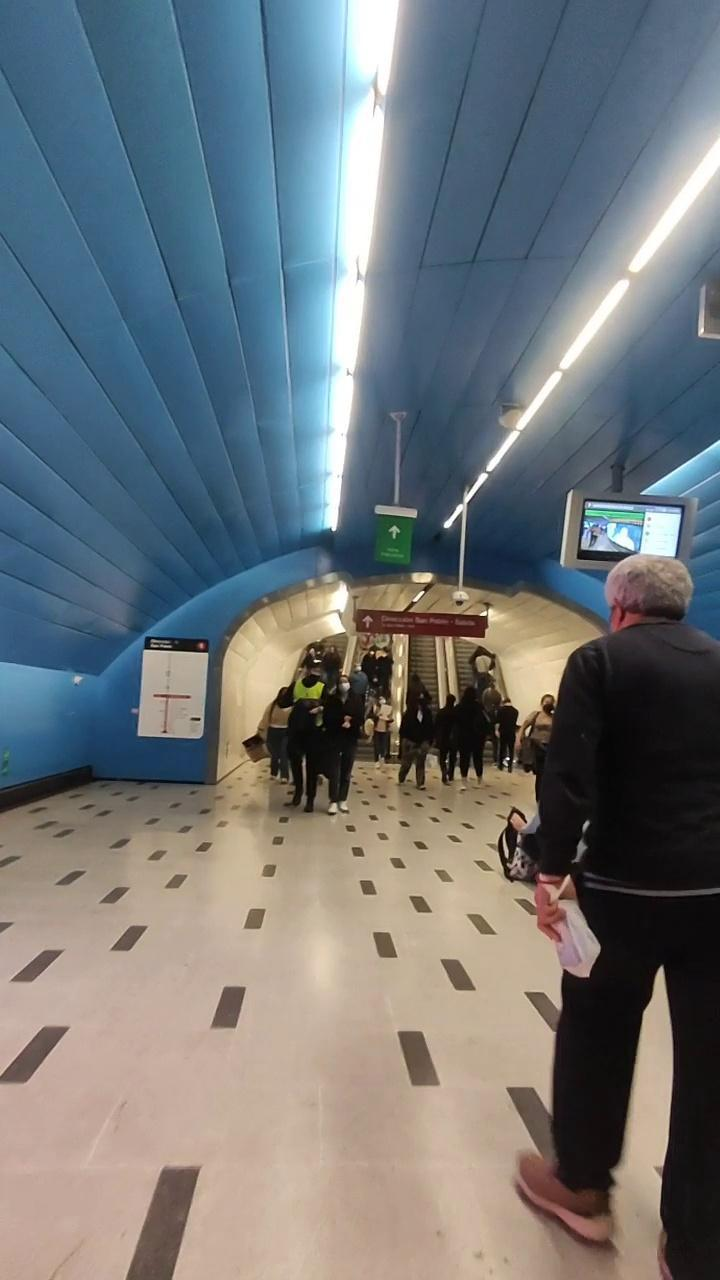up arrow: (360, 609, 376, 635)
